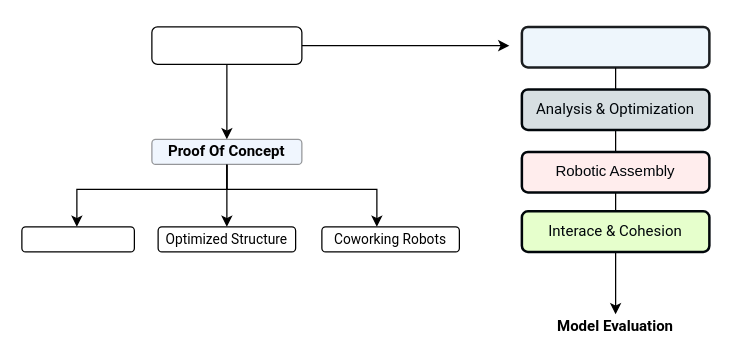
Image size: 733x360. Some labels were removed from this diagram. The shapes that lost their labels are listed below. From the top down, each one's centre as x and y in pixels, then its label:
At point (226, 45): "Project Deliverables".
At point (615, 46): "Structural Design".
At point (77, 239): "Ensured Rigidity".
